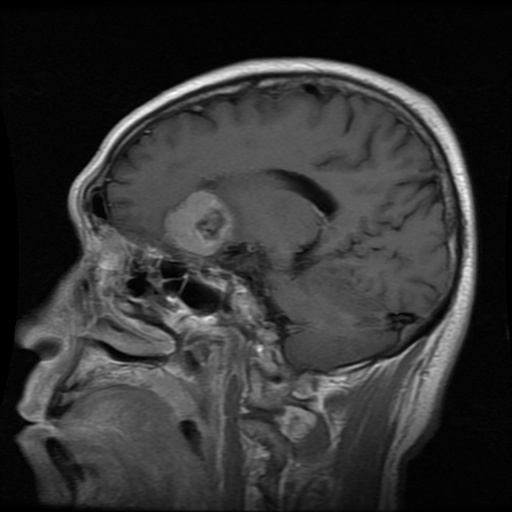meningioma: (160, 190, 231, 254)
